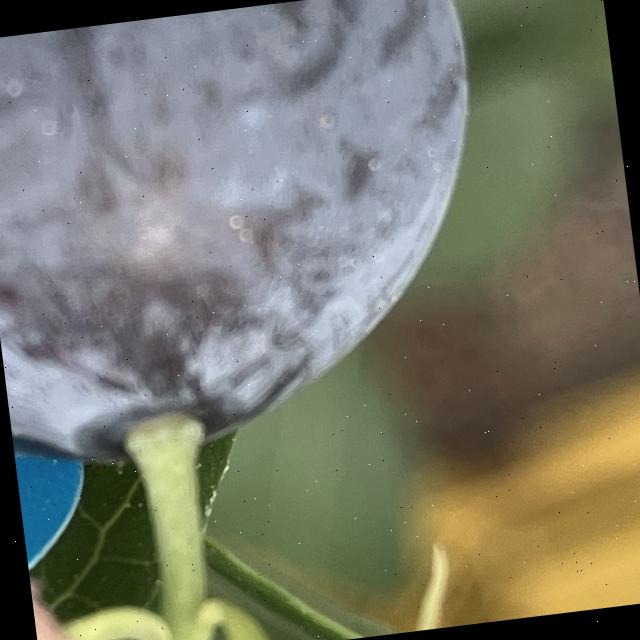Blueberries: (0, 0, 512, 486)
